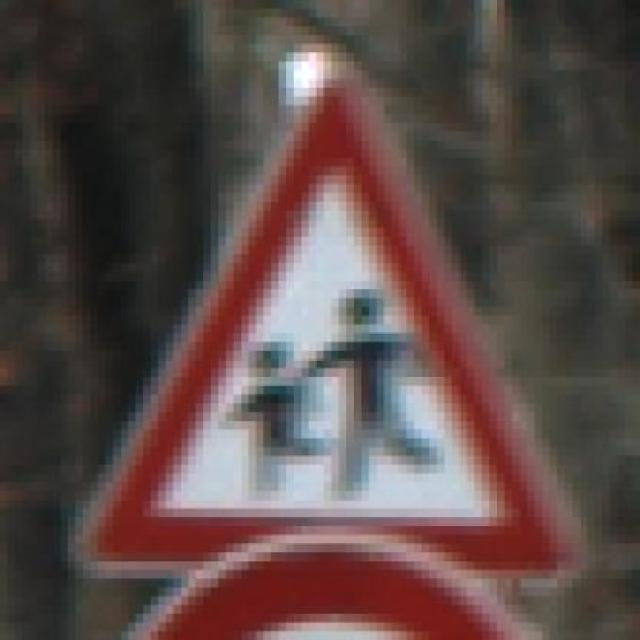Beware of children: (60, 61, 588, 578)
